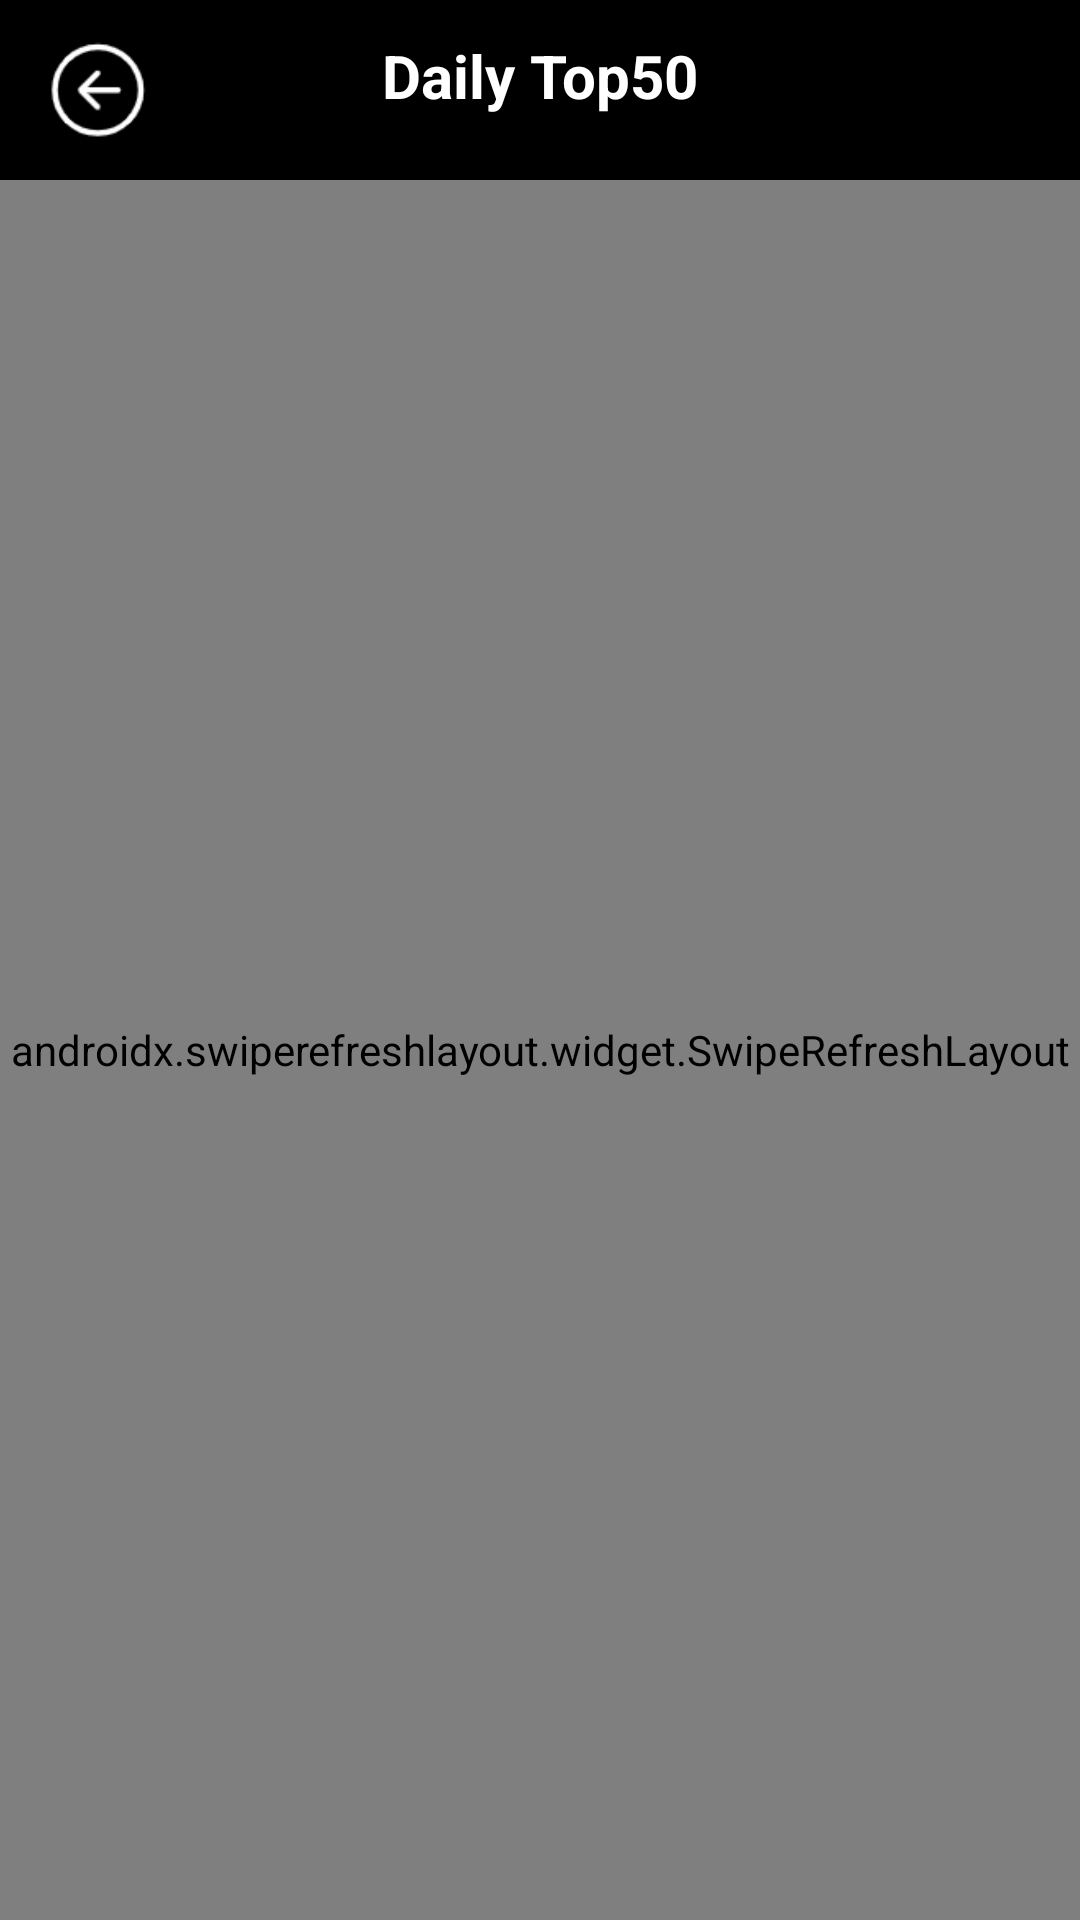

Screen size 1080w x 1920h. Icon name, then its center in pixels as [x,y]:
prev day: [98,90]
